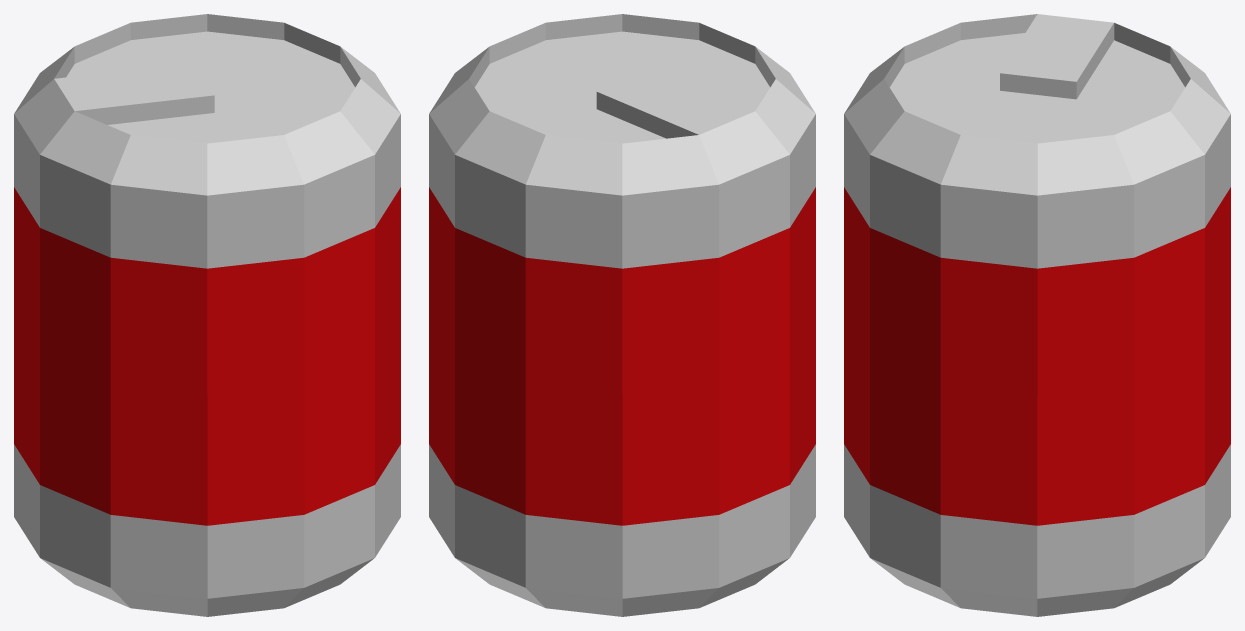
Rendered from metal soda can.fbx.
3 views of the same model, side by side, from view 1: azimuth 30°, elevation 25°; view 2: azimuth 150°, elevation 25°; view 3: azimuth 270°, elevation 25° (orthographic).
Visible parts, largest first — view 1: Cylinder; view 2: Cylinder; view 3: Cylinder.
Part boxes in pixels (left/top/right/bottom): Cylinder: left=14, top=14, right=400, bottom=616; Cylinder: left=429, top=14, right=815, bottom=616; Cylinder: left=844, top=14, right=1230, bottom=616.
Size of the model in its own units: 200 by 270 by 200.
